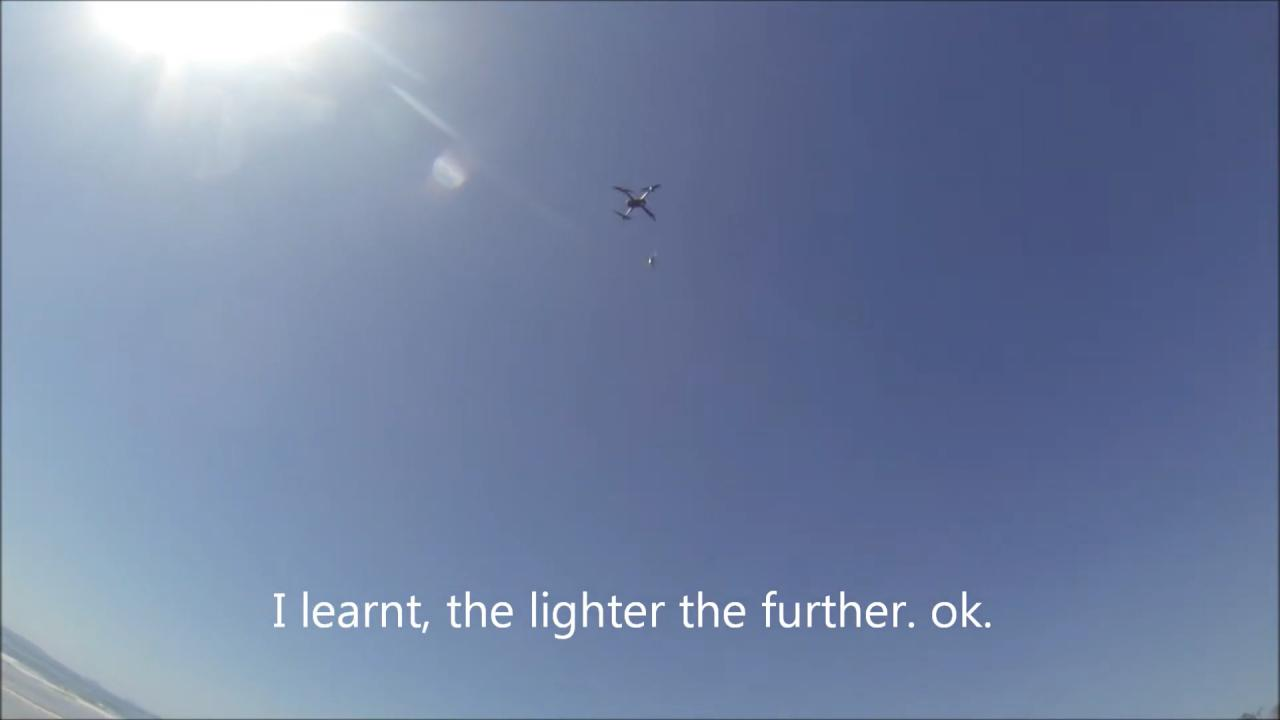Drone: (600, 175, 676, 229)
